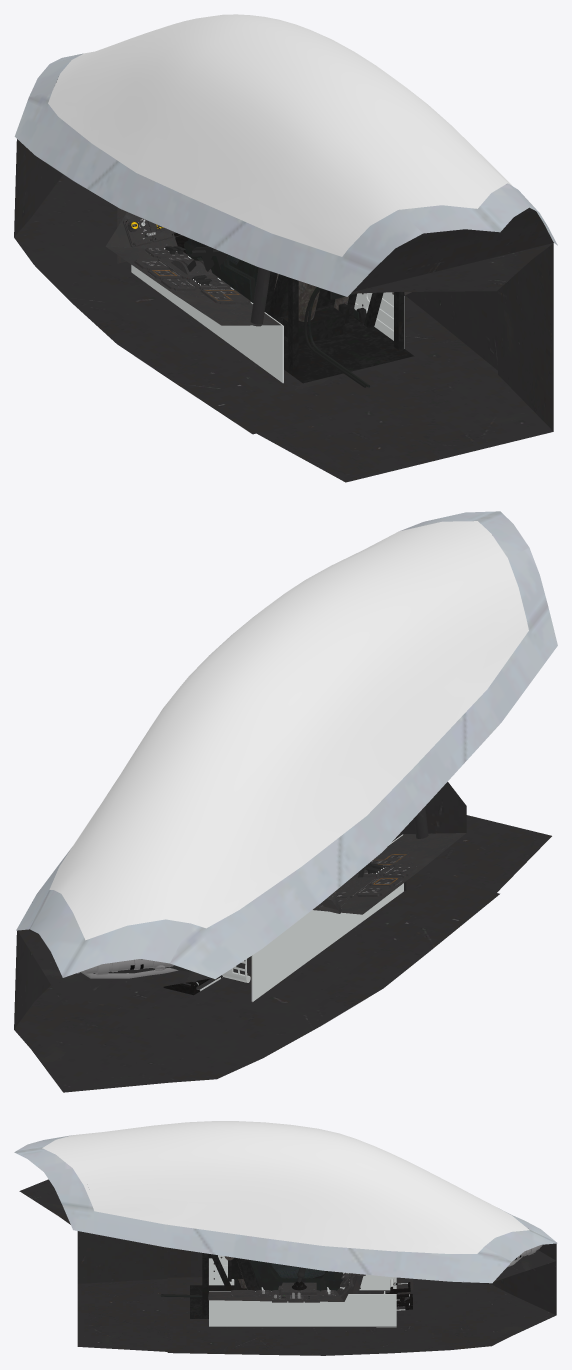
The picture shows the model from 3 angles, top to bottom: view 1: azimuth 30°, elevation 25°; view 2: azimuth 150°, elevation 25°; view 3: azimuth 270°, elevation 25°; orthographic projection. The views are drawn at different scales.
Visible parts, largest first — view 1: part_F2269Mtl, CANOPY_GLASS, part_F226Mtl, part_F2282Mtl, part_F2275Mtl, part_F2249Mtl, part_F2257Mtl, part_F2261Mtl; view 2: CANOPY_GLASS, part_F2269Mtl, part_F226Mtl, part_F2275Mtl, part_F2249Mtl, part_F2274Mtl; view 3: CANOPY_GLASS, part_F2269Mtl, part_F226Mtl, part_F2275Mtl, part_F2282Mtl, part_F2238Mtl, part_F2274Mtl.
Boxes of the visible parts, box(x1,y1,x2,y2) form: part_F2269Mtl: box(14, 79, 553, 482); CANOPY_GLASS: box(48, 14, 512, 256); part_F226Mtl: box(14, 53, 557, 296); part_F2282Mtl: box(184, 238, 414, 387); part_F2275Mtl: box(105, 207, 411, 383); part_F2249Mtl: box(134, 248, 250, 304); part_F2257Mtl: box(123, 216, 173, 247); part_F2261Mtl: box(165, 246, 227, 285); CANOPY_GLASS: box(49, 521, 528, 940); part_F2269Mtl: box(14, 782, 551, 1092); part_F226Mtl: box(16, 511, 557, 979); part_F2275Mtl: box(237, 833, 465, 1001); part_F2249Mtl: box(314, 852, 418, 908); part_F2274Mtl: box(163, 959, 250, 995); CANOPY_GLASS: box(42, 1121, 529, 1253); part_F2269Mtl: box(19, 1179, 556, 1355); part_F226Mtl: box(14, 1135, 557, 1283); part_F2275Mtl: box(208, 1255, 413, 1327); part_F2282Mtl: box(160, 1253, 343, 1318); part_F2238Mtl: box(231, 1281, 336, 1302); part_F2274Mtl: box(383, 1277, 412, 1310).
Size of the model in its own units: 1.21 by 1.31 by 3.44.
14 materials, 10 textured.
